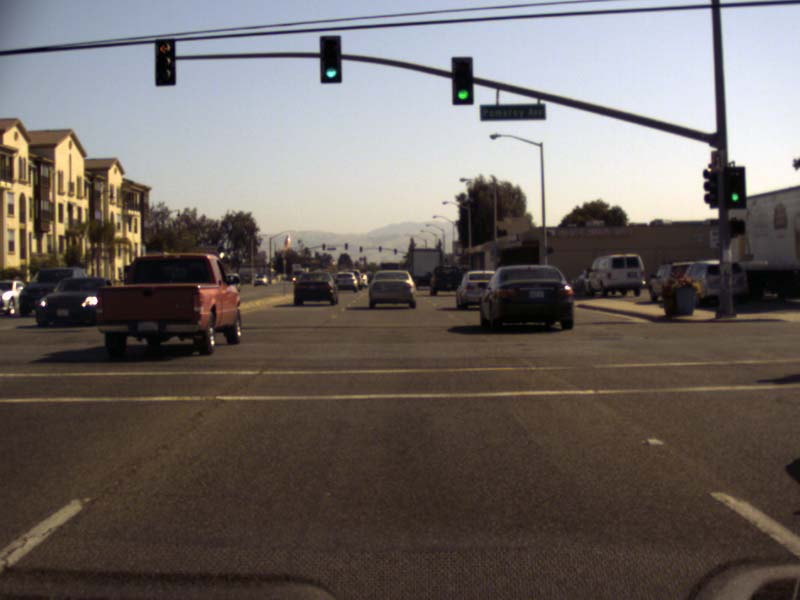Green: (451, 56, 472, 104), (320, 36, 341, 82), (726, 167, 746, 207)
Red: (154, 38, 174, 84)
